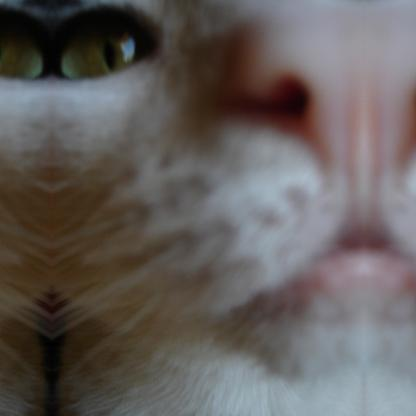Cat: (51, 0, 363, 415)
